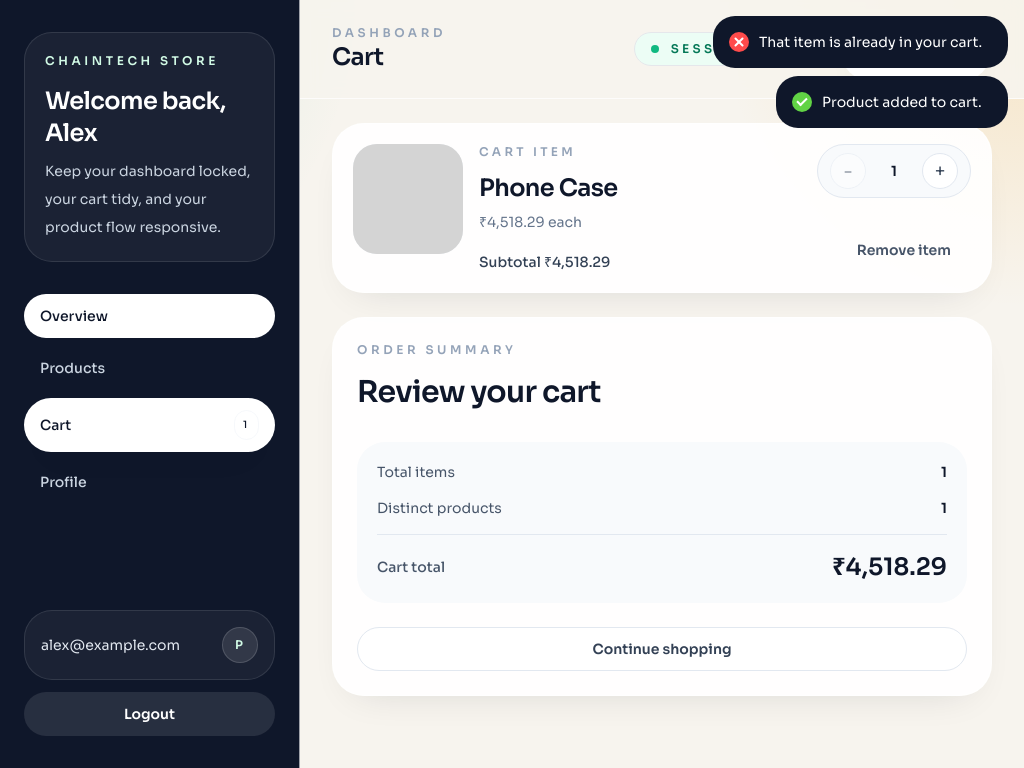
app integration flows › updates cart quantities and totals
Expected: the heading "Phone Case" is shown, [479,173,618,203]
Click the button named "Increase quantity".
click(940, 171)  # box [922,153,958,189]
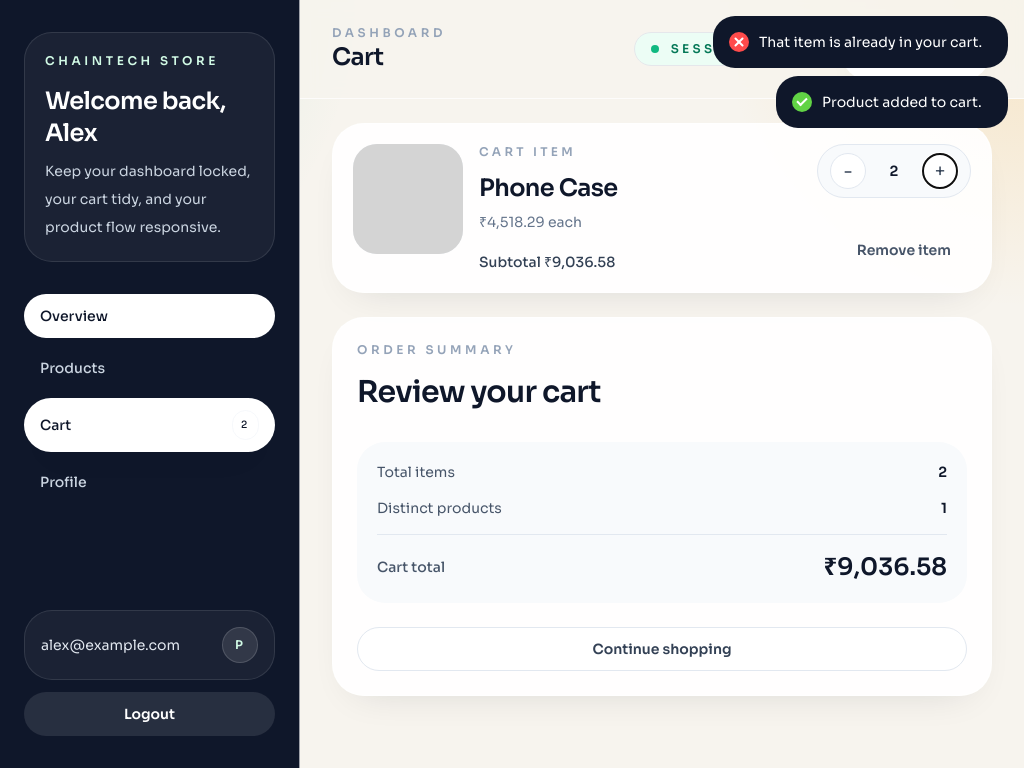
Now the text "₹9,036.58" is shown, box [824,551,947,583]
Click the button named "Decrease quantity".
click(848, 171)  # box [830,153,866,189]
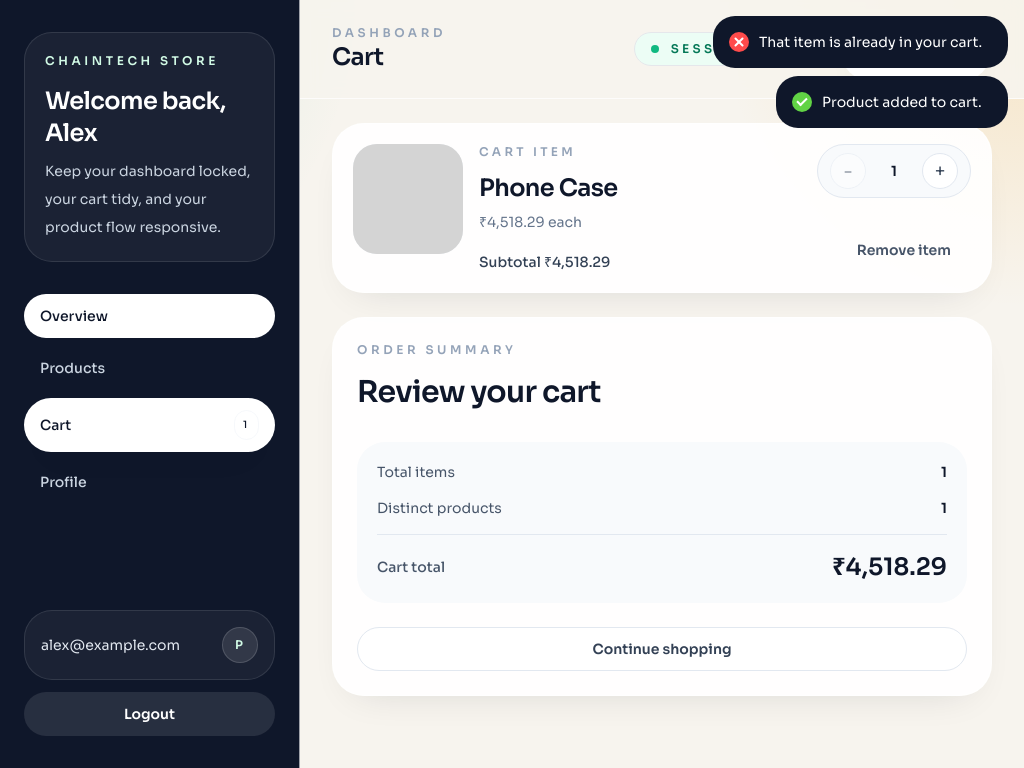
Now the text "₹4,518.29" is shown, box [832,551,947,583]
